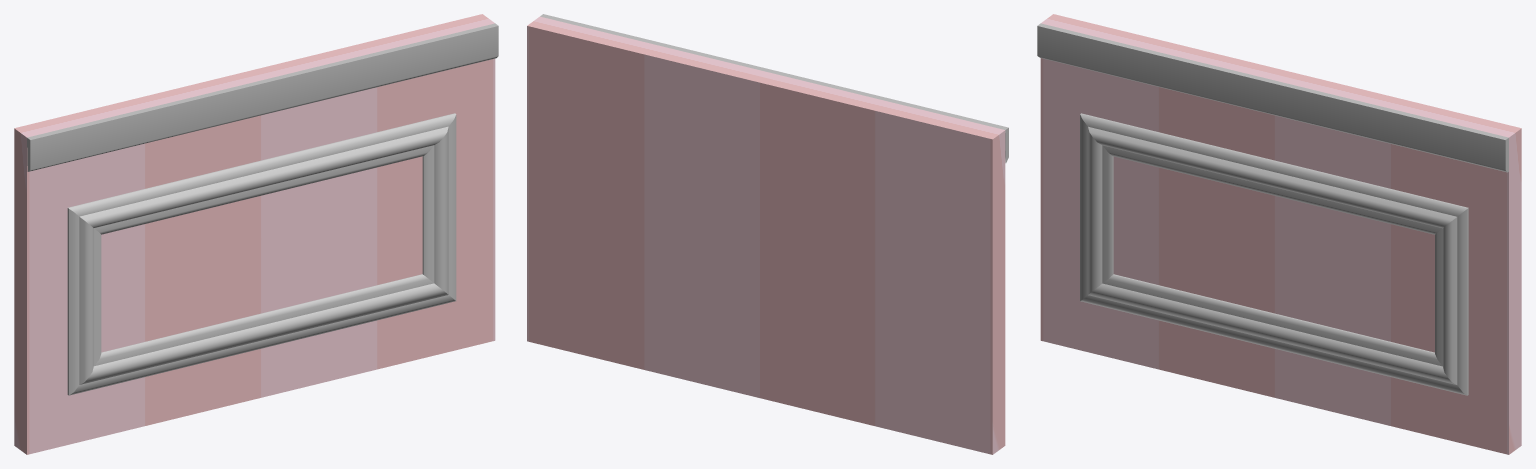
Rendered from Wall Interior Extension With Trim.fbx.
The picture shows the model from 3 angles, left to right: view 1: azimuth 30°, elevation 25°; view 2: azimuth 150°, elevation 25°; view 3: azimuth 330°, elevation 25°; orthographic projection.
Parts seen in each view (by area): view 1: Wall_Interior_Extension_WIth_Trim; view 2: Wall_Interior_Extension_WIth_Trim; view 3: Wall_Interior_Extension_WIth_Trim.
Boxes of the visible parts, x1,y1,x2,y2 form: Wall_Interior_Extension_WIth_Trim: (14,14,498,454); Wall_Interior_Extension_WIth_Trim: (527,14,1008,454); Wall_Interior_Extension_WIth_Trim: (1037,14,1521,454).
Size of the model in its own units: 1 by 0.6475 by 0.0649.
